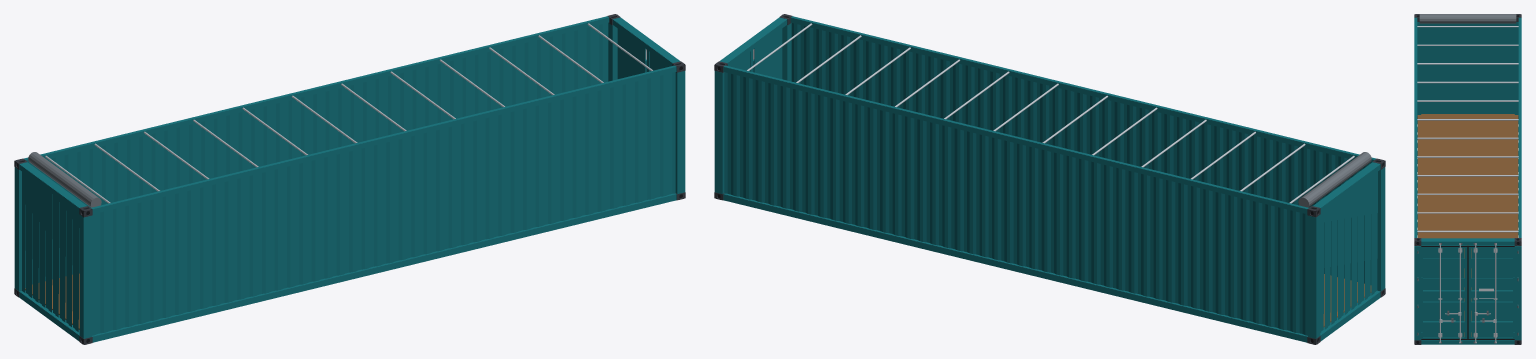
Rendered from iso_40ft_ot_42u1.obj.
The picture shows the model from 3 angles, left to right: view 1: azimuth 30°, elevation 25°; view 2: azimuth 150°, elevation 25°; view 3: azimuth 270°, elevation 25°; orthographic projection. The views are drawn at different scales.
Visible parts, largest first — view 1: 04_Corrugated_Corten_Panels, 02_Structural_Frame_Rails, 10_OpenTop_Roof_Bows_And_Tarp, 06_Corrugated_Rear_Doors, 11_Rolled_Tarpaulin, 01_ISO_Corner_Castings_Hollow3D; view 2: 04_Corrugated_Corten_Panels, 02_Structural_Frame_Rails, 10_OpenTop_Roof_Bows_And_Tarp, 06_Corrugated_Rear_Doors, 11_Rolled_Tarpaulin, 01_ISO_Corner_Castings_Hollow3D; view 3: 03_Marine_Wood_Floor, 06_Corrugated_Rear_Doors, 04_Corrugated_Corten_Panels, 02_Structural_Frame_Rails, 10_OpenTop_Roof_Bows_And_Tarp, 07_Galvanized_Locking_Hardware, 11_Rolled_Tarpaulin, 05_Door_Rubber_Gaskets_Beveled, 01_ISO_Corner_Castings_Hollow3D.
Part boxes in pixels (bbox=[...]): 04_Corrugated_Corten_Panels: bbox=[22, 23, 675, 335]; 02_Structural_Frame_Rails: bbox=[14, 16, 685, 342]; 10_OpenTop_Roof_Bows_And_Tarp: bbox=[45, 23, 652, 203]; 06_Corrugated_Rear_Doors: bbox=[617, 28, 669, 78]; 11_Rolled_Tarpaulin: bbox=[28, 152, 101, 207]; 01_ISO_Corner_Castings_Hollow3D: bbox=[14, 14, 685, 344]; 04_Corrugated_Corten_Panels: bbox=[724, 23, 1377, 335]; 02_Structural_Frame_Rails: bbox=[714, 16, 1385, 342]; 10_OpenTop_Roof_Bows_And_Tarp: bbox=[747, 23, 1354, 203]; 06_Corrugated_Rear_Doors: bbox=[730, 28, 782, 78]; 11_Rolled_Tarpaulin: bbox=[1298, 152, 1371, 207]; 01_ISO_Corner_Castings_Hollow3D: bbox=[714, 14, 1385, 344]; 03_Marine_Wood_Floor: bbox=[1417, 114, 1518, 336]; 06_Corrugated_Rear_Doors: bbox=[1417, 245, 1518, 338]; 04_Corrugated_Corten_Panels: bbox=[1421, 23, 1514, 113]; 02_Structural_Frame_Rails: bbox=[1414, 17, 1521, 344]; 10_OpenTop_Roof_Bows_And_Tarp: bbox=[1417, 26, 1518, 232]; 07_Galvanized_Locking_Hardware: bbox=[1417, 243, 1518, 343]; 11_Rolled_Tarpaulin: bbox=[1419, 14, 1516, 23]; 05_Door_Rubber_Gaskets_Beveled: bbox=[1421, 246, 1514, 339]; 01_ISO_Corner_Castings_Hollow3D: bbox=[1414, 14, 1521, 344].
Size of the model in its own units: 12.22 by 2.73 by 2.44.
